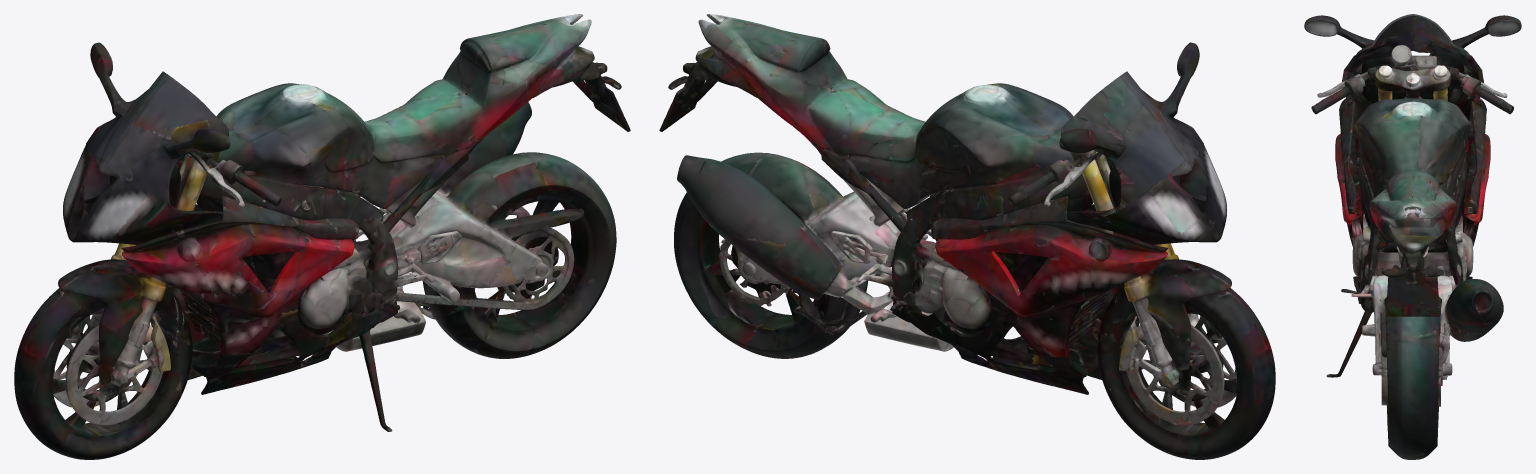
File: Meshy_AI_BMW_Sharkmouth_Racer_0307150145_texture.glb
3 renders of one model, left to right at view 1: azimuth 30°, elevation 25°; view 2: azimuth 150°, elevation 25°; view 3: azimuth 270°, elevation 25°, orthographic. The views are drawn at different scales.
Size of the model in its own units: 1.9 by 1.11 by 0.7296.
1 material, 1 textured.
